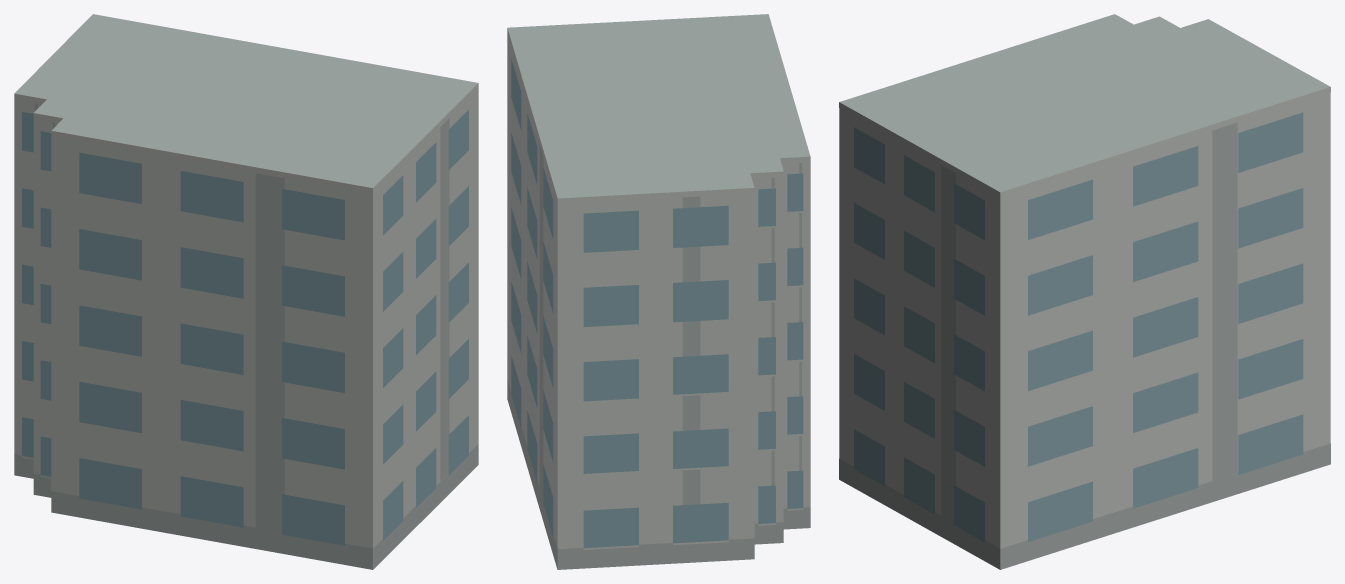
File: survey-upis-32868557.glb
3 views of the same model, side by side, from view 1: azimuth 30°, elevation 25°; view 2: azimuth 150°, elevation 25°; view 3: azimuth 270°, elevation 25° (orthographic). The views are drawn at different scales.
Parts seen in each view (by area): view 1: survey-upis-32868557.tmp; view 2: survey-upis-32868557.tmp; view 3: survey-upis-32868557.tmp.
Boxes of the visible parts, bbox=[...] form: survey-upis-32868557.tmp: bbox=[14, 14, 478, 569]; survey-upis-32868557.tmp: bbox=[507, 14, 810, 569]; survey-upis-32868557.tmp: bbox=[839, 14, 1330, 569].
Bounding box in the file's own units: 15.91 × 15.7 × 18.53.
